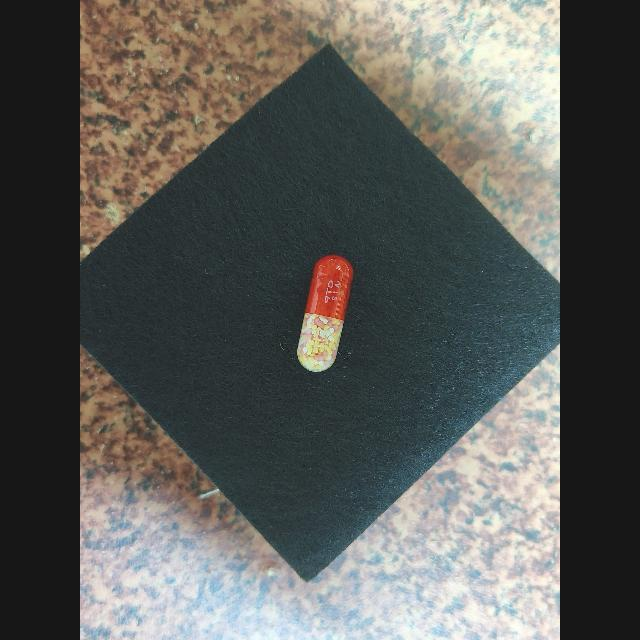Intact Capsule: (297, 255, 354, 372)
